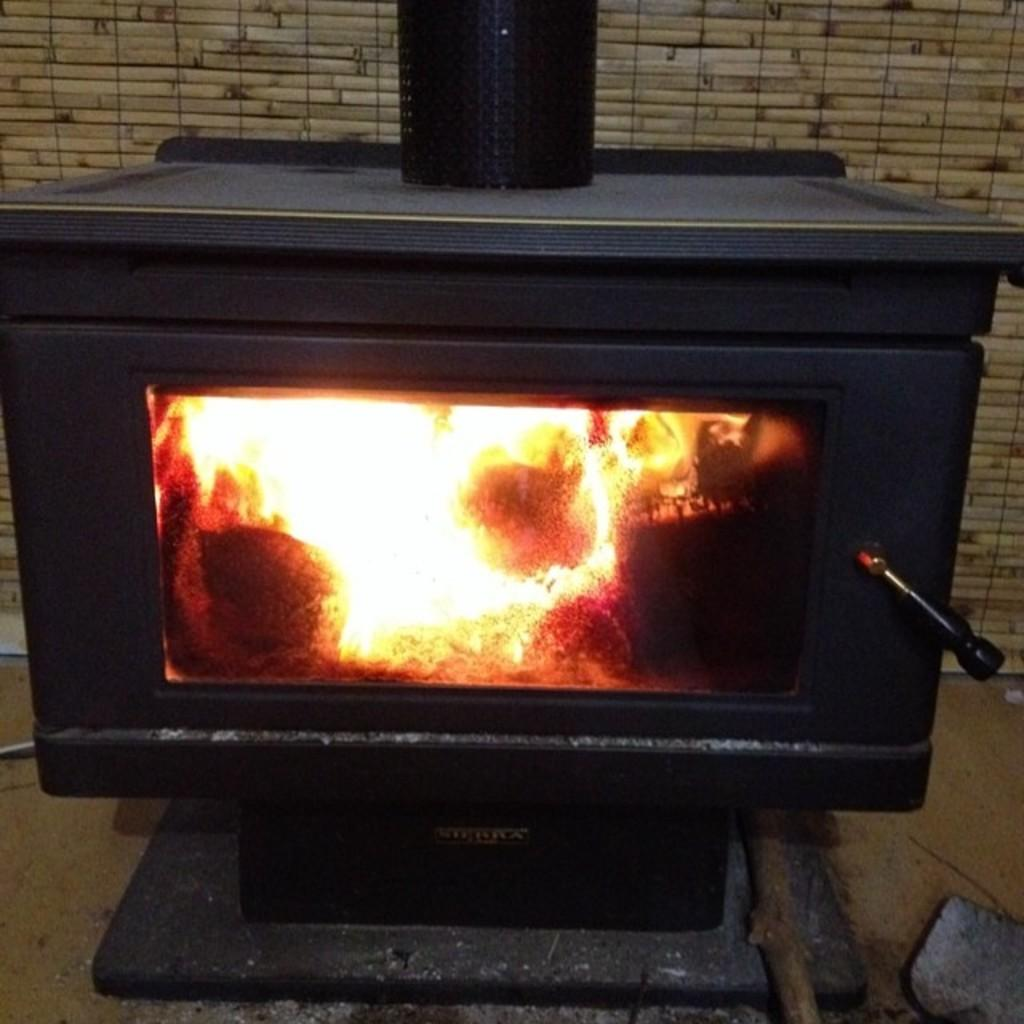Fire: (152, 377, 798, 693)
